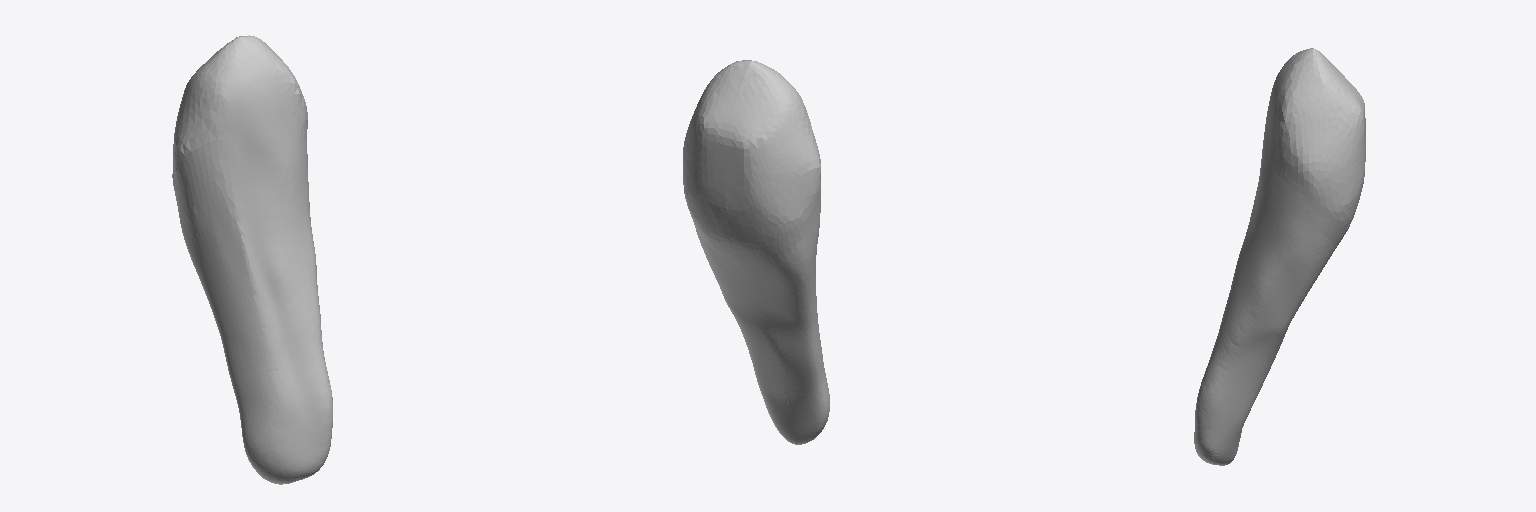
The model's file is forearm.obj.
3 views of the same model, side by side, from view 1: azimuth 30°, elevation 25°; view 2: azimuth 150°, elevation 25°; view 3: azimuth 270°, elevation 25° (orthographic).
Bounding box in the file's own units: 1.55 × 4.76 × 1.79.